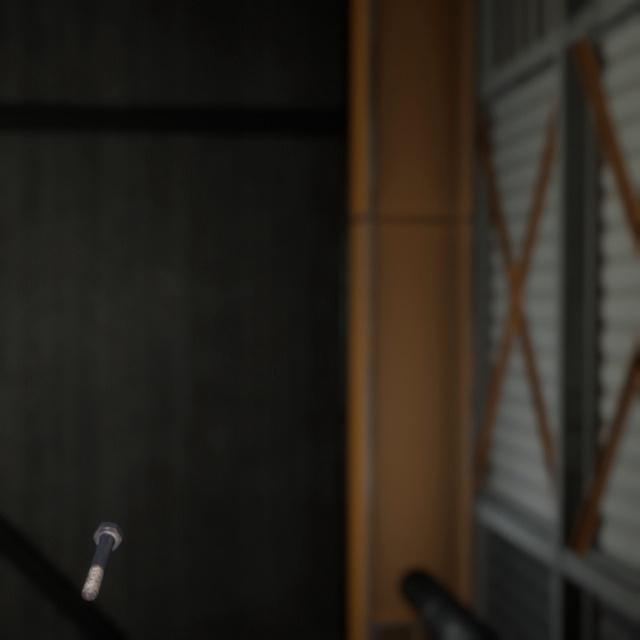bolt: (77, 496, 128, 582)
